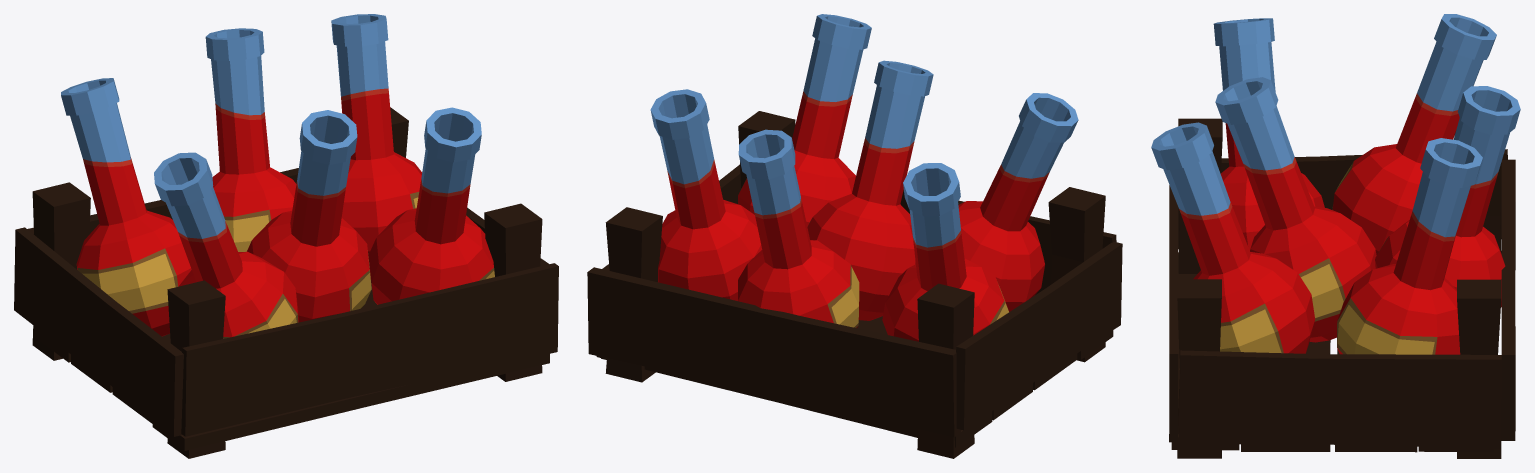
Rendered from potions.obj.
3 views of the same model, side by side, from view 1: azimuth 30°, elevation 25°; view 2: azimuth 150°, elevation 25°; view 3: azimuth 270°, elevation 25° (orthographic). The views are drawn at different scales.
Visible parts, largest first — view 1: Sphere.005; view 2: Sphere.005; view 3: Sphere.005.
Boxes of the visible parts, x1,y1,x2,y2 form: Sphere.005: [14, 14, 558, 458]; Sphere.005: [587, 14, 1122, 458]; Sphere.005: [1151, 14, 1520, 458].
Size of the model in its own units: 1.62 by 1.12 by 1.3.
